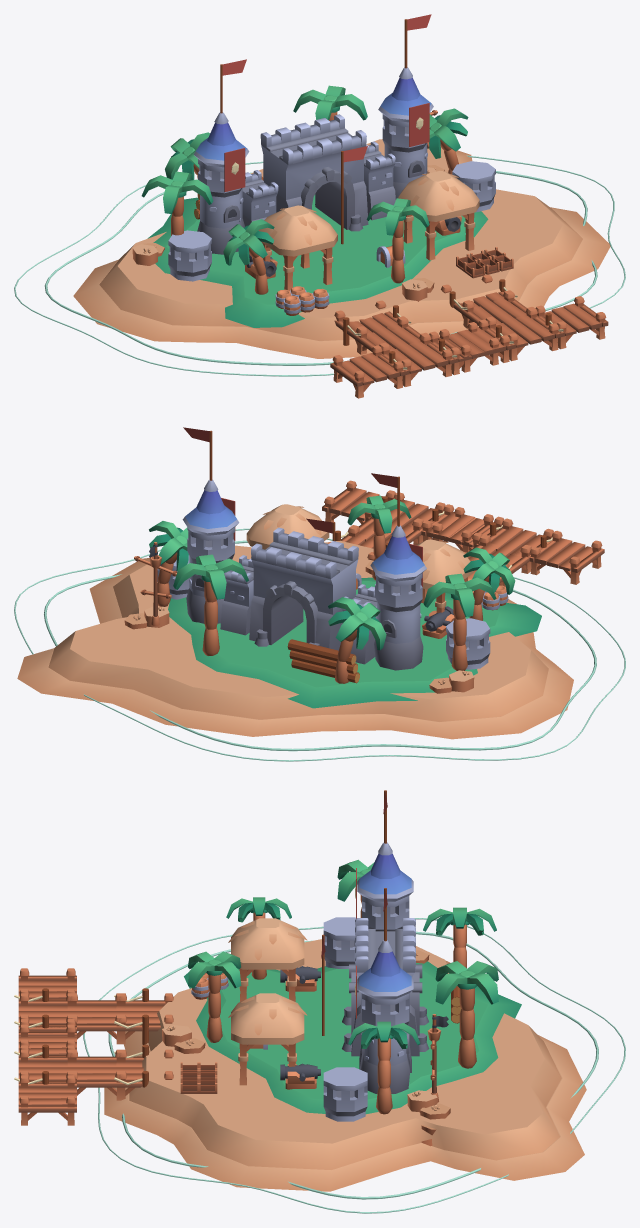
File: harbor_enemy.glb
3 renders of one model, top to bottom at view 1: azimuth 30°, elevation 25°; view 2: azimuth 150°, elevation 25°; view 3: azimuth 270°, elevation 25°, orthographic. The views are drawn at different scales.
Parts seen in each view (by area): view 1: Beach • sandy silhouette.005, Island ground cover.005, Wet sand shelf.005, Harbor keep gate.001, Harbor bastion.002, structure-roof.007, structure-roof.006, Harbor bastion.003, structure-platform-dock.009, tower-watch.003, palm-detailed-bend.017, Shore foam.010 (+22 smaller); view 2: Beach • sandy silhouette.005, Wet sand shelf.005, Island ground cover.005, Harbor keep gate.001, Harbor bastion.002, Harbor bastion.003, palm-straight.015, palm-detailed-bend.016, palm-straight.016, Shore foam.010, structure-platform-dock.009, structure-roof.007 (+23 smaller); view 3: Beach • sandy silhouette.005, Island ground cover.005, Wet sand shelf.005, Harbor bastion.003, Harbor keep gate.001, structure-roof.007, structure-roof.006, Harbor bastion.002, palm-straight.015, tower-watch.004, palm-straight.017, palm-detailed-bend.015 (+20 smaller).
Boxes of the visible parts, x1=… form: Beach • sandy silhouette.005: x1=99, y1=139, x2=582, y2=340; Island ground cover.005: x1=147, y1=194, x2=488, y2=327; Wet sand shelf.005: x1=73, y1=142, x2=610, y2=358; Harbor keep gate.001: x1=260, y1=114, x2=368, y2=231; Harbor bastion.002: x1=193, y1=112, x2=249, y2=254; structure-roof.007: x1=398, y1=171, x2=479, y2=260; structure-roof.006: x1=258, y1=205, x2=337, y2=290; Harbor bastion.003: x1=378, y1=67, x2=433, y2=199; structure-platform-dock.009: x1=330, y1=345, x2=405, y2=398; tower-watch.003: x1=168, y1=230, x2=211, y2=281; palm-detailed-bend.017: x1=223, y1=219, x2=274, y2=294; Shore foam.010: x1=44, y1=171, x2=597, y2=365; Beach • sandy silhouette.005: x1=48, y1=540, x2=548, y2=721; Wet sand shelf.005: x1=17, y1=558, x2=573, y2=739; Island ground cover.005: x1=168, y1=577, x2=541, y2=708; Harbor keep gate.001: x1=249, y1=527, x2=358, y2=650; Harbor bastion.002: x1=370, y1=525, x2=426, y2=670; Harbor bastion.003: x1=182, y1=479, x2=239, y2=623; palm-straight.015: x1=173, y1=554, x2=248, y2=655; palm-detailed-bend.016: x1=328, y1=597, x2=386, y2=683; palm-straight.016: x1=423, y1=573, x2=496, y2=670; Shore foam.010: x1=44, y1=540, x2=596, y2=751; structure-platform-dock.009: x1=528, y1=531, x2=604, y2=584; structure-roof.007: x1=246, y1=504, x2=329, y2=557; Beach • sandy silhouette.005: x1=129, y1=939, x2=561, y2=1169; Island ground cover.005: x1=184, y1=961, x2=521, y2=1114; Wet sand shelf.005: x1=104, y1=961, x2=586, y2=1191; Harbor bastion.003: x1=357, y1=940, x2=413, y2=1093; Harbor keep gate.001: x1=342, y1=918, x2=429, y2=1056; structure-roof.007: x1=228, y1=993, x2=307, y2=1085; structure-roof.006: x1=228, y1=918, x2=307, y2=1001; Harbor bastion.002: x1=357, y1=842, x2=413, y2=931; palm-straight.015: x1=435, y1=961, x2=498, y2=1068; tower-watch.004: x1=323, y1=1067, x2=367, y2=1121; palm-straight.017: x1=188, y1=951, x2=241, y2=1042; palm-detailed-bend.015: x1=348, y1=1021, x2=420, y2=1114.
Bounding box in the file's own units: 31.42 × 11.25 × 27.55.
Materials: 21 (16 with a texture image).
